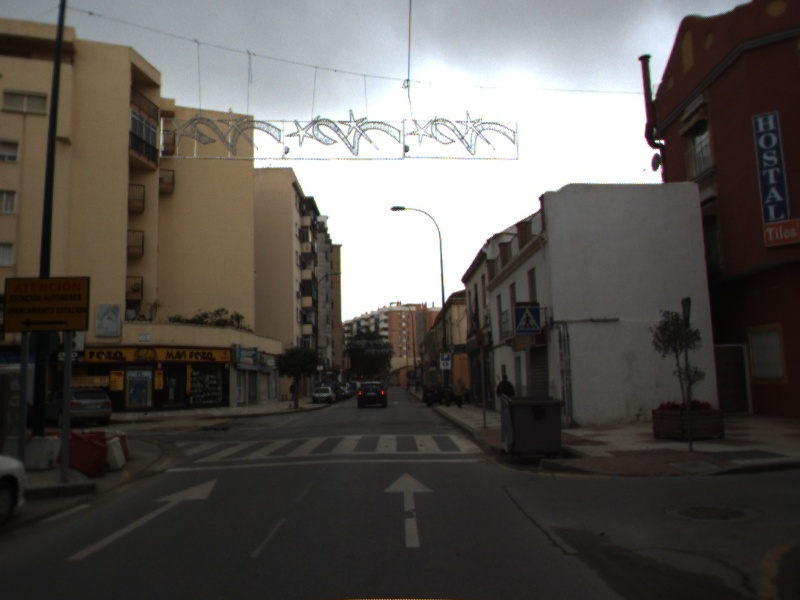STRAIGHT: (65, 477, 220, 563), (381, 469, 437, 550)
